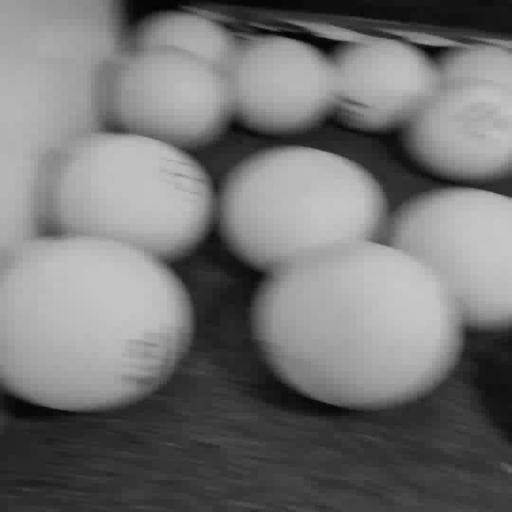fuel: (250, 241, 463, 409), (0, 236, 193, 412), (38, 134, 214, 259), (219, 146, 386, 271), (385, 188, 511, 329), (101, 49, 232, 150), (404, 82, 511, 181), (231, 36, 333, 135), (332, 39, 438, 133), (128, 11, 235, 67), (439, 44, 511, 87)
